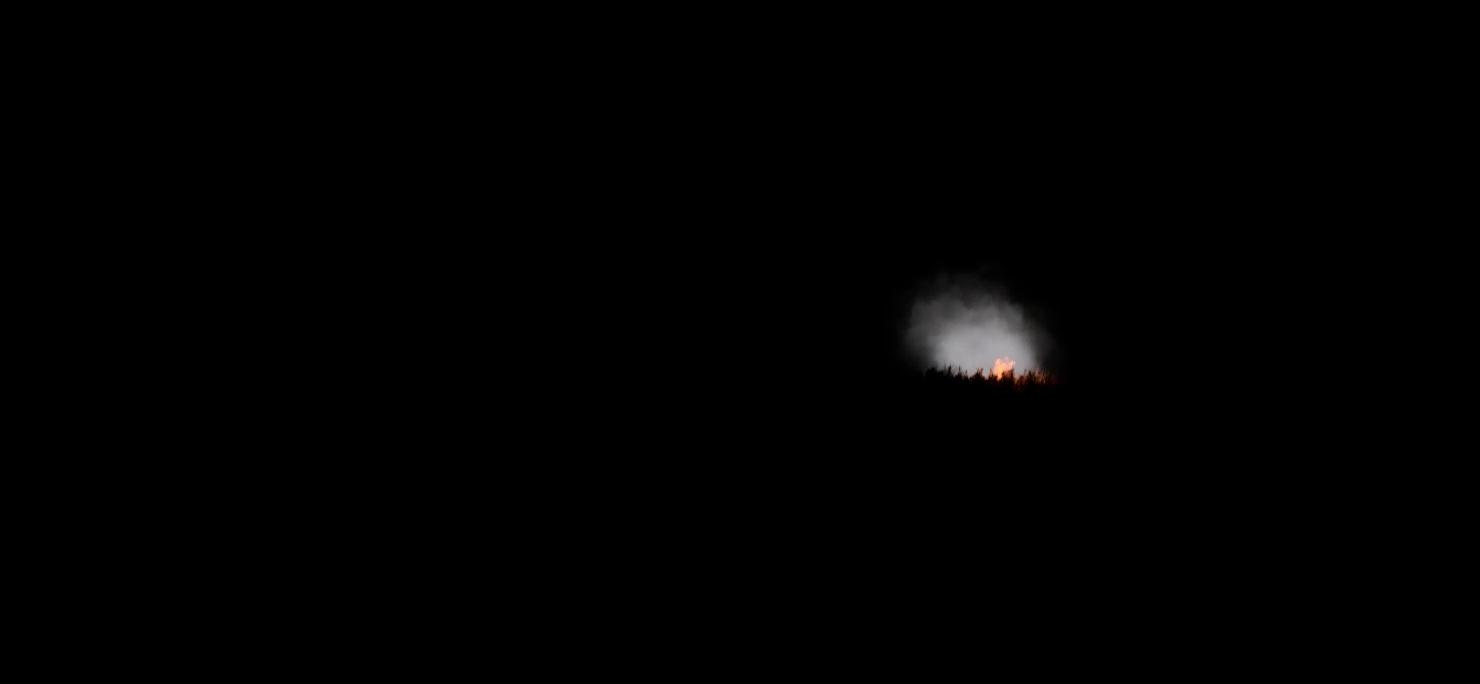fire: (989, 354, 1022, 383)
smoke: (906, 286, 1047, 380)
